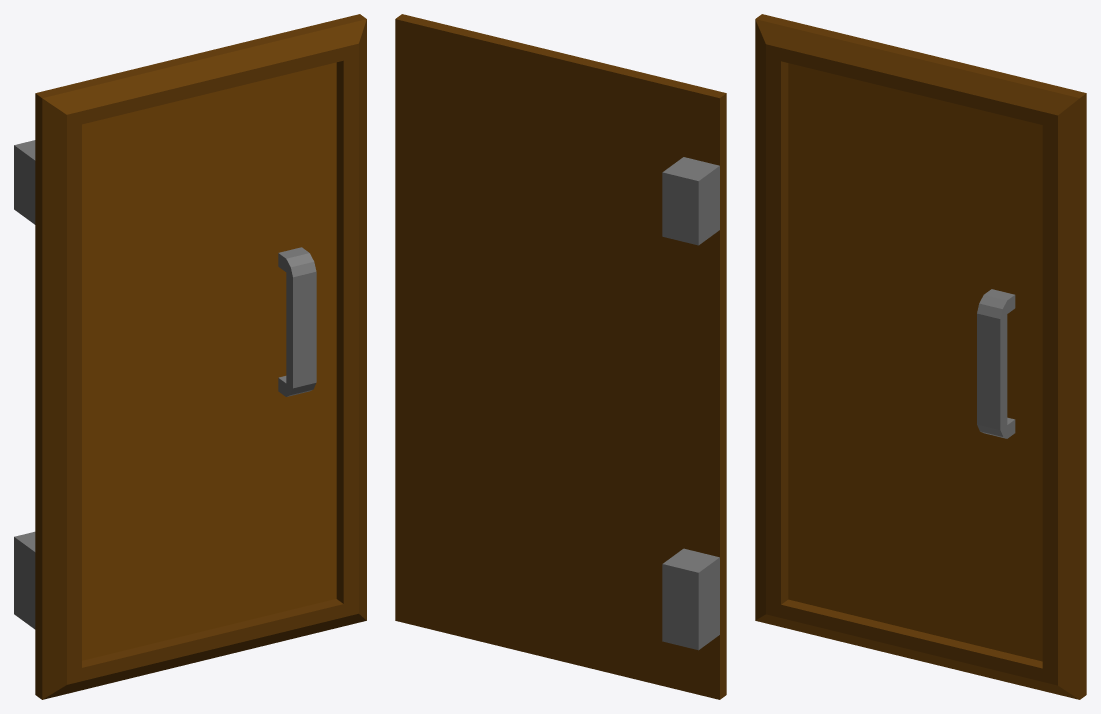
Rendered from Cupboard_2_Left_Door.fbx.
The picture shows the model from 3 angles, left to right: view 1: azimuth 30°, elevation 25°; view 2: azimuth 150°, elevation 25°; view 3: azimuth 330°, elevation 25°; orthographic projection.
Parts seen in each view (by area): view 1: Cube.184; view 2: Cube.184; view 3: Cube.184.
Boxes of the visible parts, left/top/right/bottom form: Cube.184: left=14, top=14, right=366, bottom=699; Cube.184: left=395, top=14, right=726, bottom=699; Cube.184: left=755, top=14, right=1086, bottom=699.
Size of the model in its own units: 50.02 by 88.58 by 11.37.
